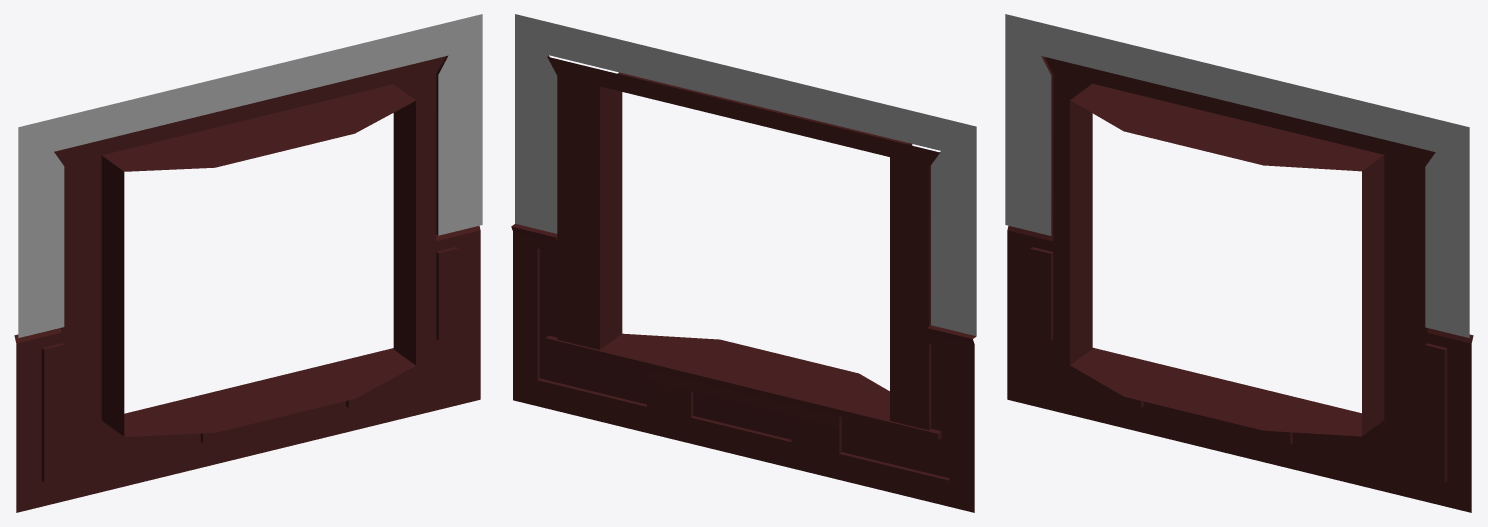
File: WideWindow.fbx
3 renders of one model, left to right at view 1: azimuth 30°, elevation 25°; view 2: azimuth 150°, elevation 25°; view 3: azimuth 330°, elevation 25°, orthographic.
Parts seen in each view (by area): view 1: polySurface31; view 2: polySurface31; view 3: polySurface31.
Part boxes in pixels (<box>): polySurface31: <box>14,14,482,512</box>; polySurface31: <box>511,14,976,512</box>; polySurface31: <box>1005,14,1473,512</box>.
Size of the model in its own units: 4 by 3.19 by 0.6435.
